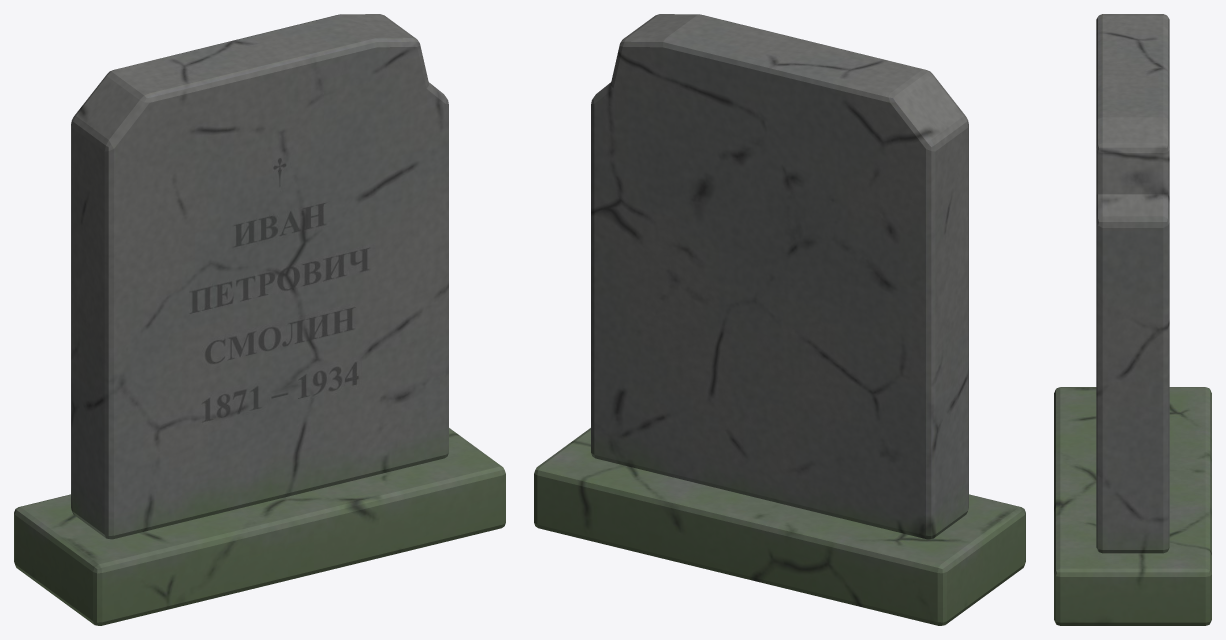
The model's file is gravestone_slab_a.glb.
3 views of the same model, side by side, from view 1: azimuth 30°, elevation 25°; view 2: azimuth 150°, elevation 25°; view 3: azimuth 270°, elevation 25° (orthographic). The views are drawn at different scales.
Visible parts, largest first — view 1: gravestone_slab_a; view 2: gravestone_slab_a; view 3: gravestone_slab_a.
Part boxes in pixels (x1,y1,x2,y2): gravestone_slab_a: (14, 14, 505, 625); gravestone_slab_a: (534, 14, 1025, 625); gravestone_slab_a: (1054, 14, 1211, 625).
Size of the model in its own units: 0.84 by 0.97 by 0.3.
Materials: 1 (1 with a texture image).
